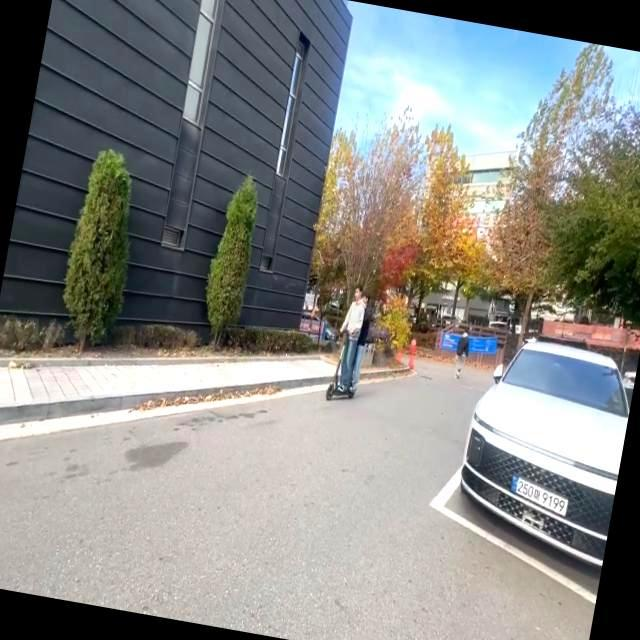bare_head: (352, 286, 364, 299), (360, 293, 371, 305)
human: (334, 284, 364, 391), (345, 291, 373, 387)
kickboard: (320, 379, 358, 400)
